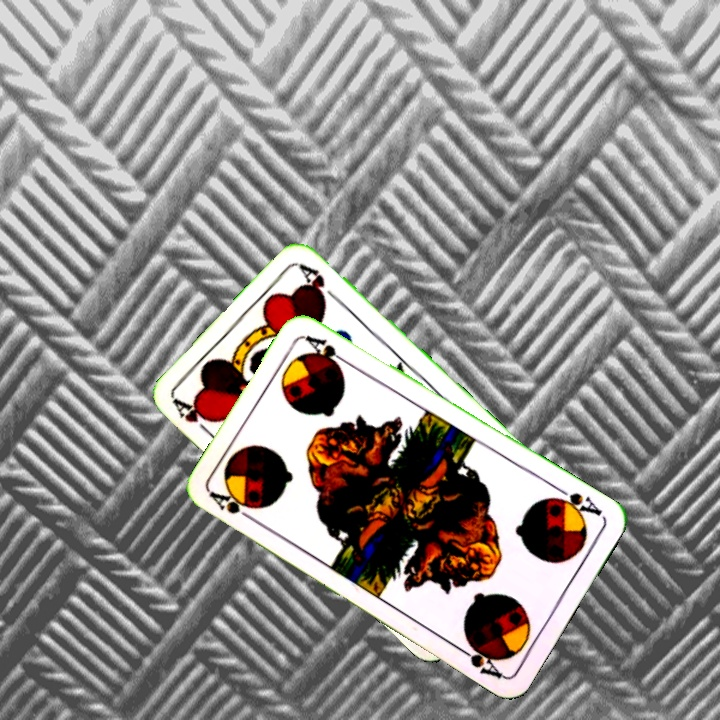HA: (170, 395, 219, 442)
SA: (546, 482, 605, 522), (206, 487, 260, 526)
